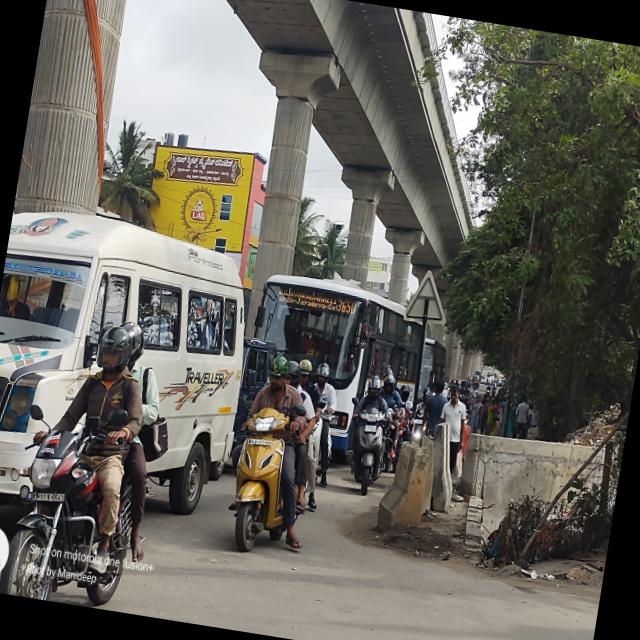bus: (232, 248, 442, 461), (414, 332, 456, 408)
display: (270, 281, 360, 319)
dnumber: (336, 296, 358, 316)
